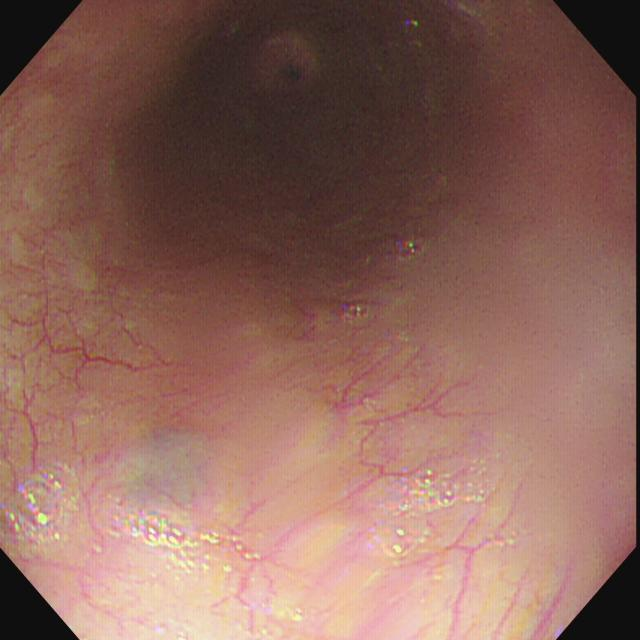T: (104, 493, 263, 572), (372, 458, 490, 562), (2, 457, 81, 556), (396, 231, 430, 261), (340, 299, 375, 325)
